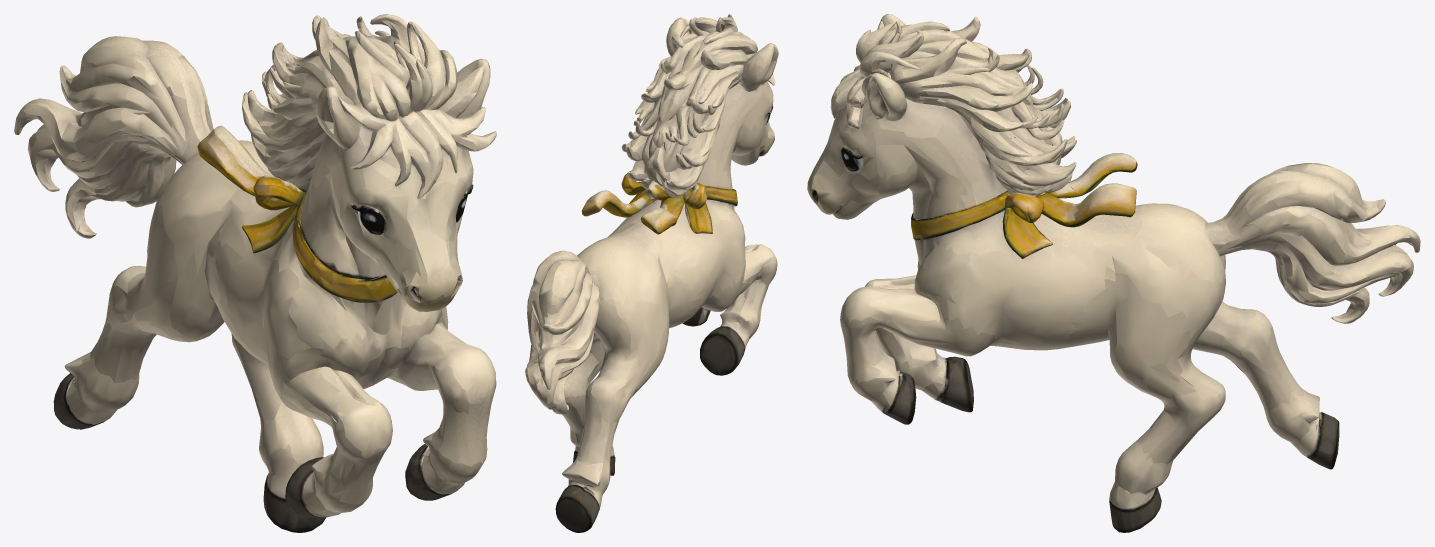
The model's file is colt_white.glb.
3 views of the same model, side by side, from view 1: azimuth 30°, elevation 25°; view 2: azimuth 150°, elevation 25°; view 3: azimuth 270°, elevation 25° (orthographic). The views are drawn at different scales.
Bounding box in the file's own units: 0.4775 × 1.68 × 1.9.
1 material, 1 textured.
